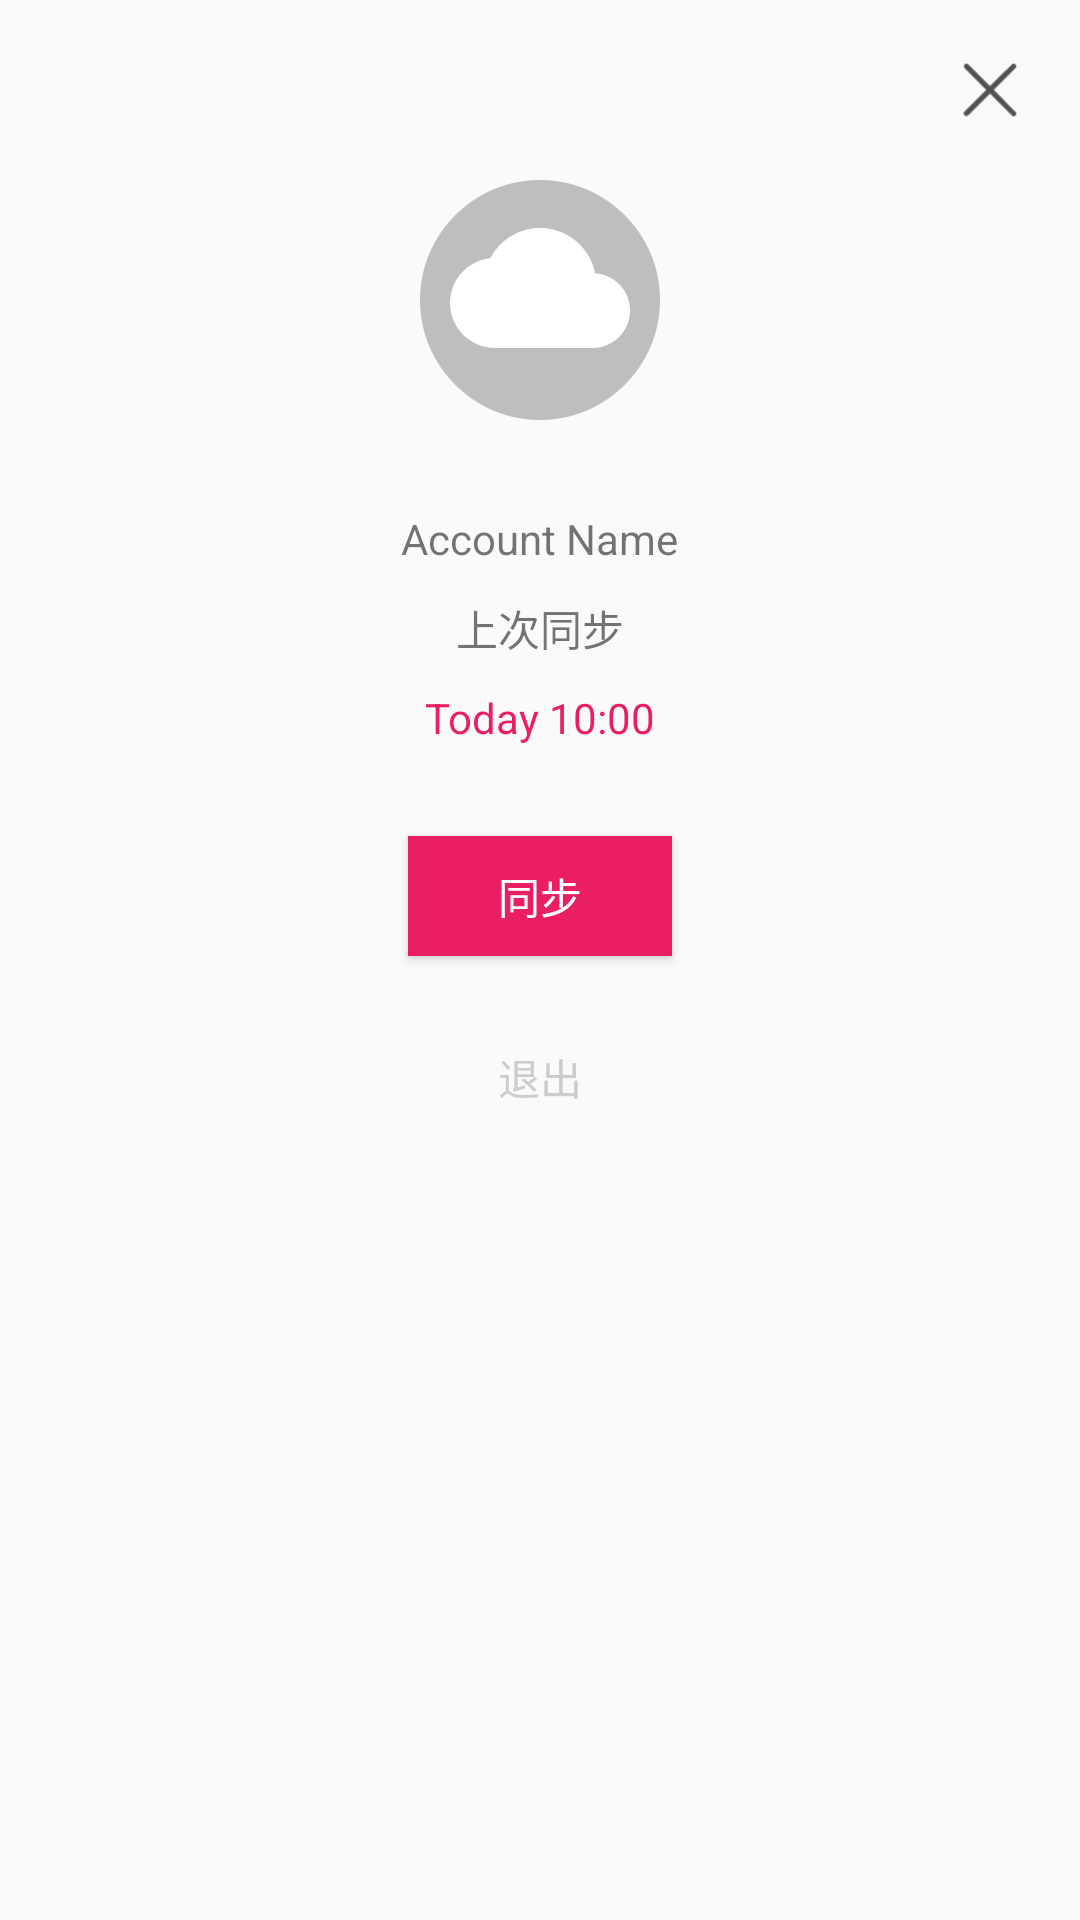

Icon bounding boxes for this 1080*1920 phone screenshot, format (x1, y1, x2, y2):
close: (963, 63, 1017, 117)
sync cloud: (420, 180, 660, 420)
